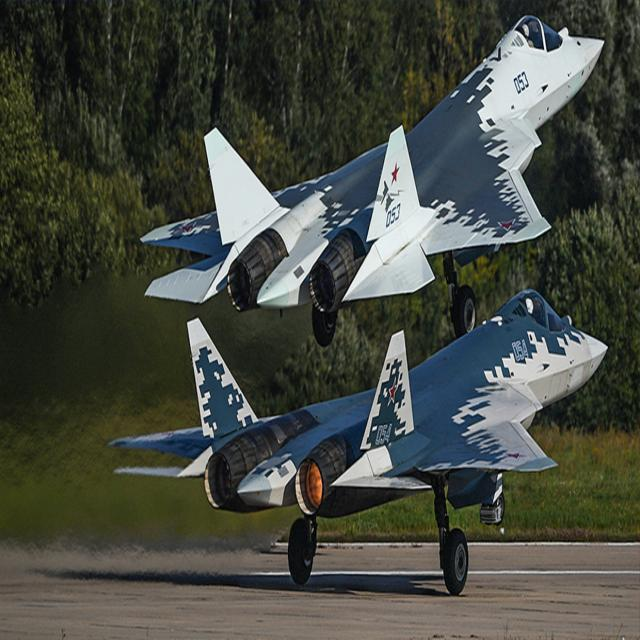MIL_Plane: (140, 16, 606, 347), (106, 289, 608, 594)
